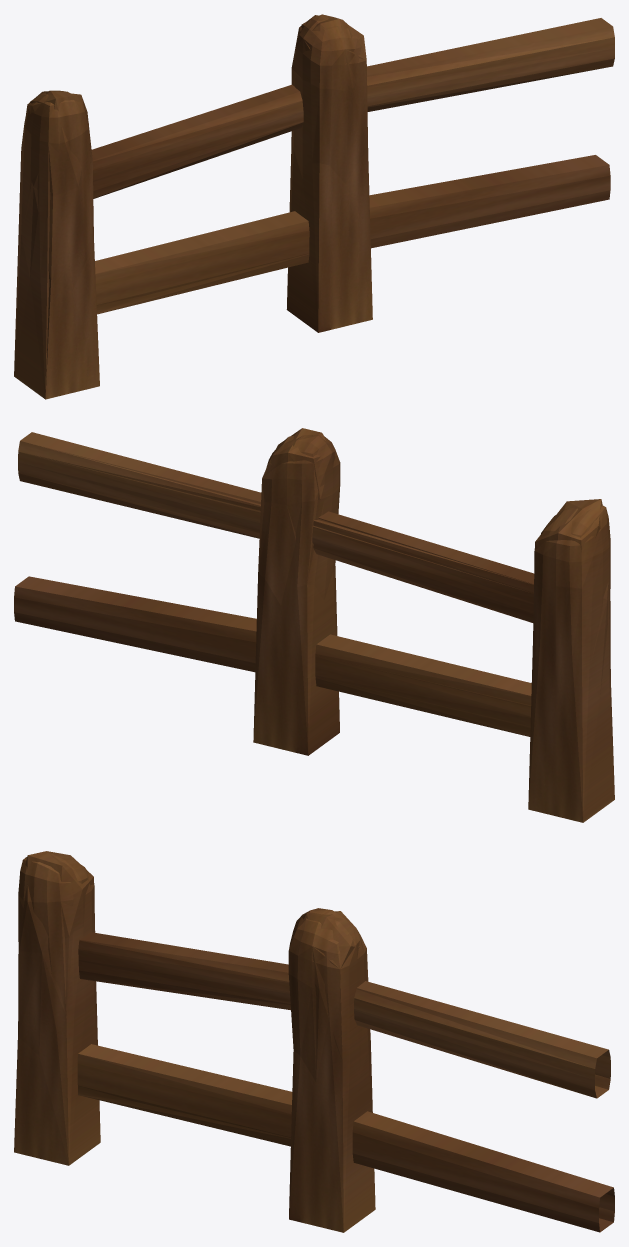
Rendered from Fence_2TilesLength.fbx.
3 views of the same model, one above another, from view 1: azimuth 30°, elevation 25°; view 2: azimuth 150°, elevation 25°; view 3: azimuth 330°, elevation 25° (orthographic).
Parts seen in each view (by area): view 1: Fence#2, Fence#3; view 2: Fence#2, Fence#3; view 3: Fence#2, Fence#3.
Part boxes in pixels (x1,y1,x2,y2): Fence#2: (14, 14, 614, 399); Fence#3: (21, 15, 610, 397); Fence#2: (14, 432, 614, 822); Fence#3: (14, 428, 608, 726); Fence#2: (14, 853, 614, 1232); Fence#3: (14, 851, 614, 1231).
Size of the model in its own units: 4.22 by 2.11 by 0.4391.
Materials: 1 (1 with a texture image).
